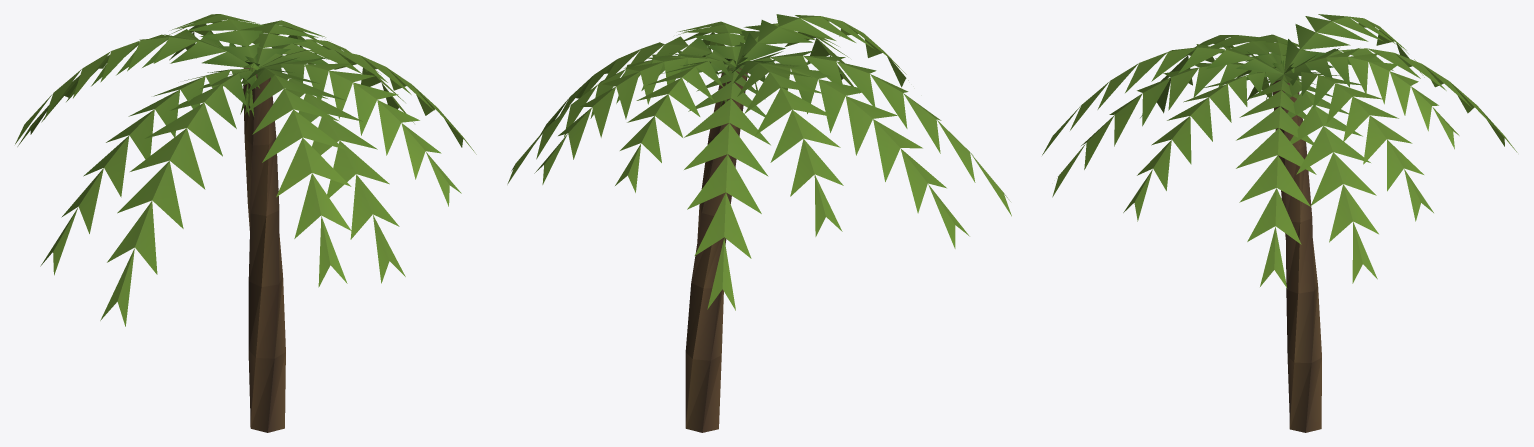
The model's file is treefern_a.glb.
The picture shows the model from 3 angles, left to right: view 1: azimuth 30°, elevation 25°; view 2: azimuth 150°, elevation 25°; view 3: azimuth 270°, elevation 25°; orthographic projection. The views are drawn at different scales.
Parts seen in each view (by area): view 1: treefern_a_leaf, treefern_a_solid; view 2: treefern_a_leaf, treefern_a_solid; view 3: treefern_a_leaf, treefern_a_solid.
Boxes of the visible parts, x1,y1,x2,y2 form: treefern_a_leaf: [15, 14, 476, 326]; treefern_a_solid: [243, 67, 285, 432]; treefern_a_leaf: [507, 14, 1011, 310]; treefern_a_solid: [685, 67, 747, 432]; treefern_a_leaf: [1042, 14, 1517, 288]; treefern_a_solid: [1272, 79, 1321, 432].
Size of the model in its own units: 3.91 by 3.44 by 4.07.
